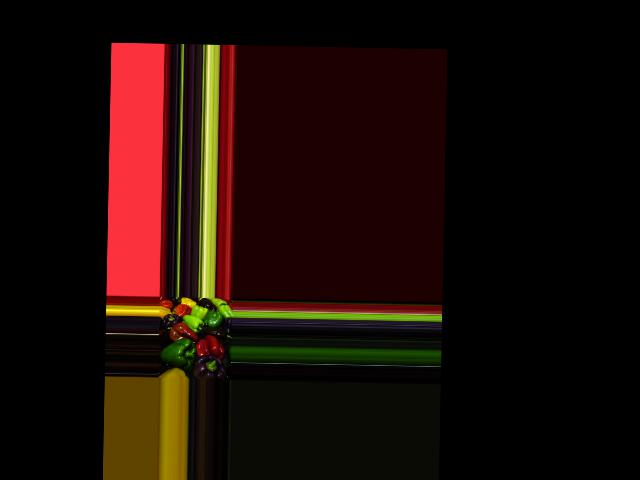bell_pepper: (160, 310, 180, 328)
